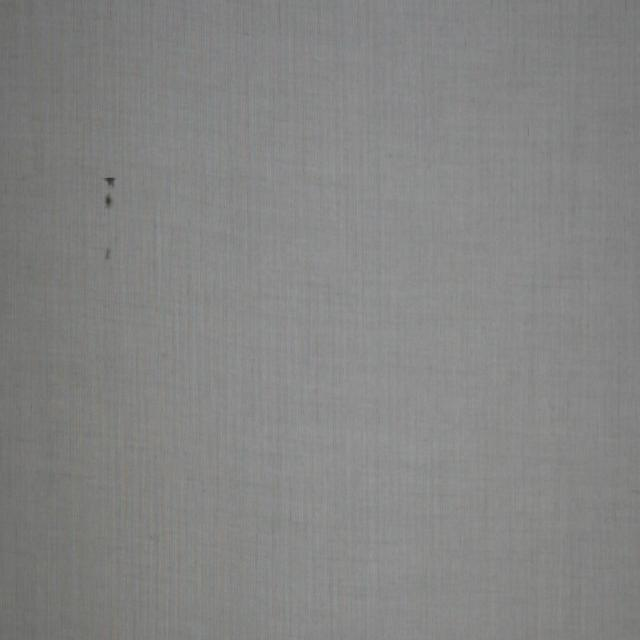dirty: (103, 174, 117, 210), (105, 244, 113, 266)
